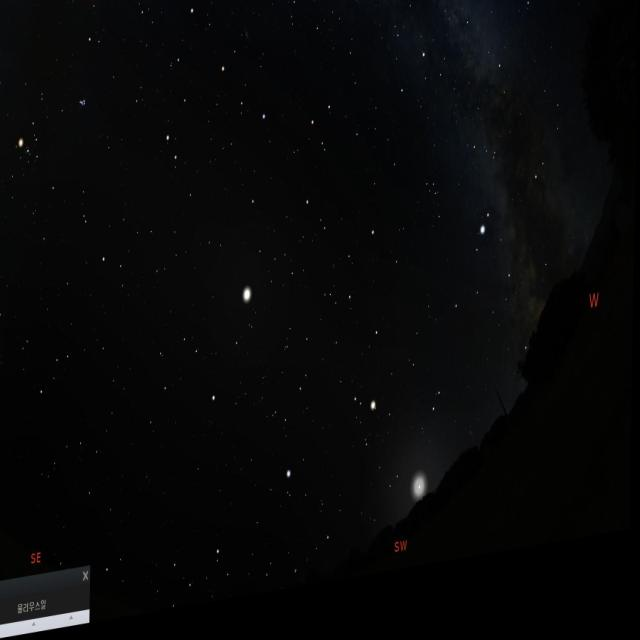aquila: (452, 220, 552, 382)
cygnus: (402, 0, 505, 107)
lyra: (517, 0, 551, 34)
moon: (400, 465, 439, 547)
pleiades: (72, 89, 93, 132)
taurus: (10, 73, 96, 212)
